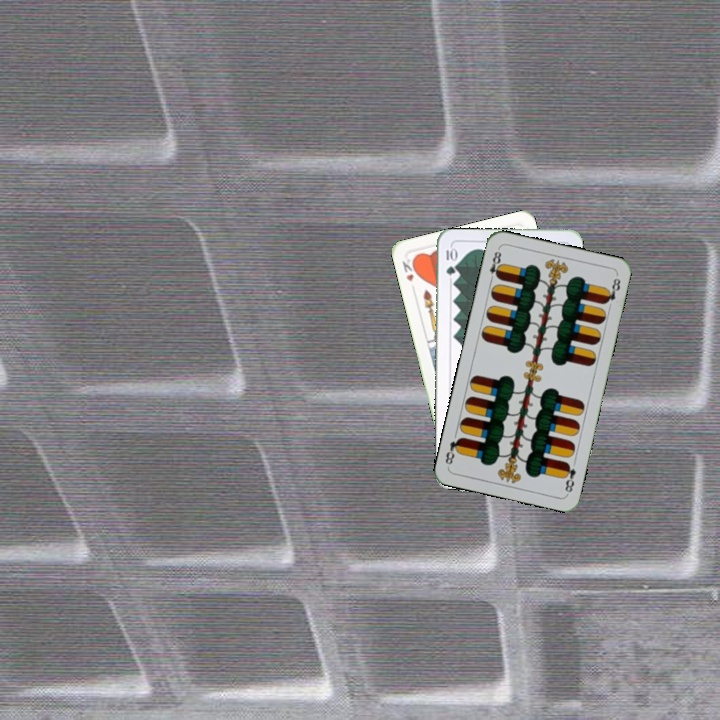E8: (486, 245, 505, 285), (560, 458, 579, 495)
G10: (442, 244, 457, 278)
HK: (398, 255, 420, 284)
